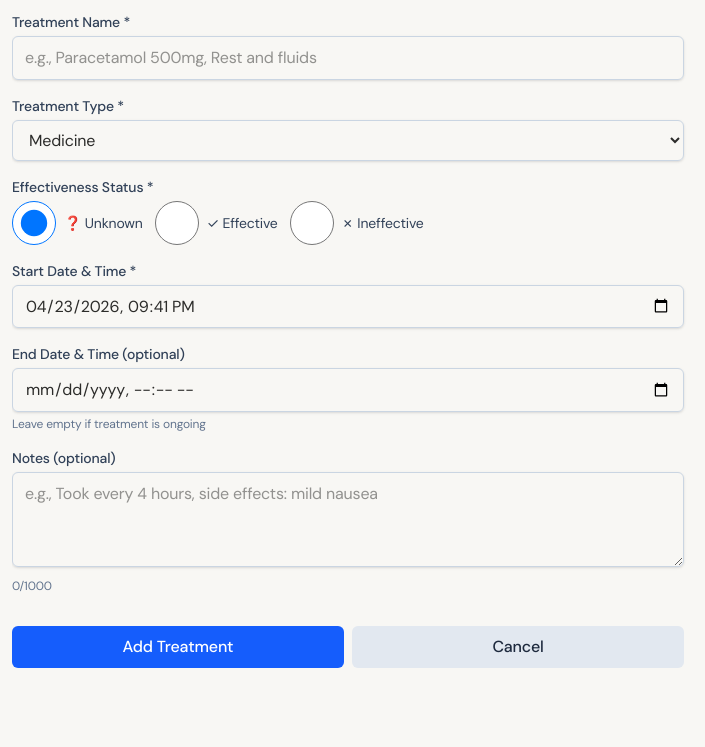
Test: TreatmentForm Component › Form Submission › should validate end date is after start date
Type "Test" into the field labelled "Treatment Name *" at (348, 58), box [12,36,684,80]
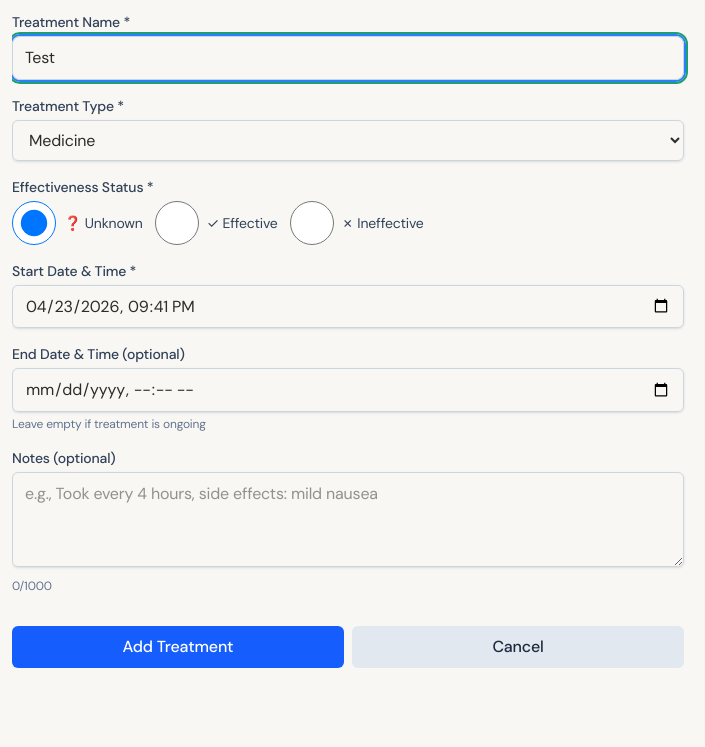
Replace the text in the field labelled "Start Date & Time *" with "2026-02-22T18:00" at (348, 306), box [12,285,684,328]
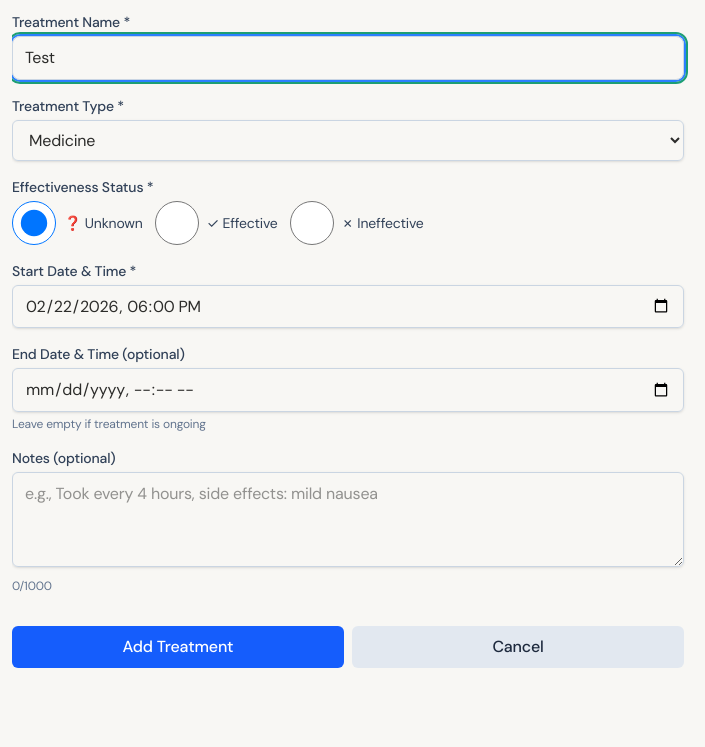
Type "2026-02-20T10:00" into the field labelled "End Date & Time (optional)" at (348, 390), box [12,368,684,412]
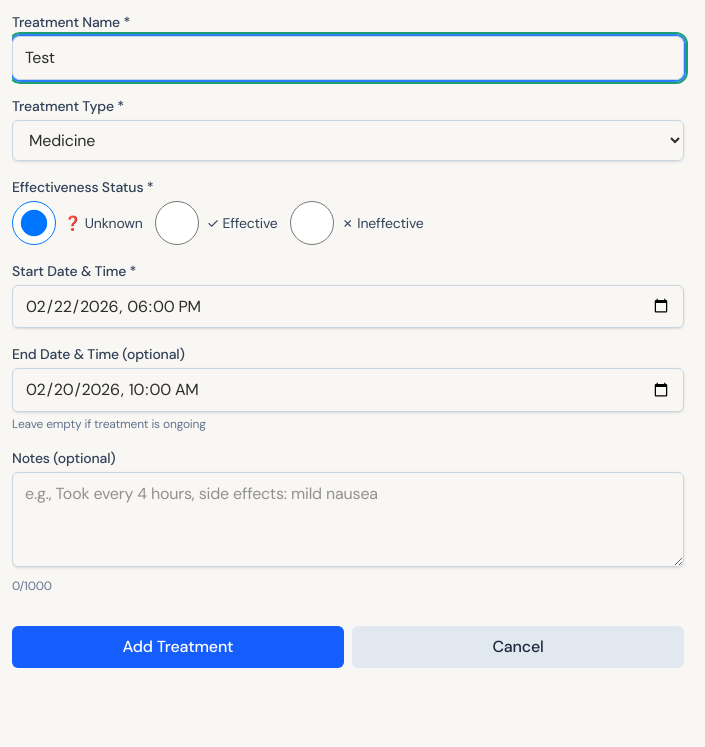
Click the button "Add Treatment" at (178, 647), box [12,626,344,668]
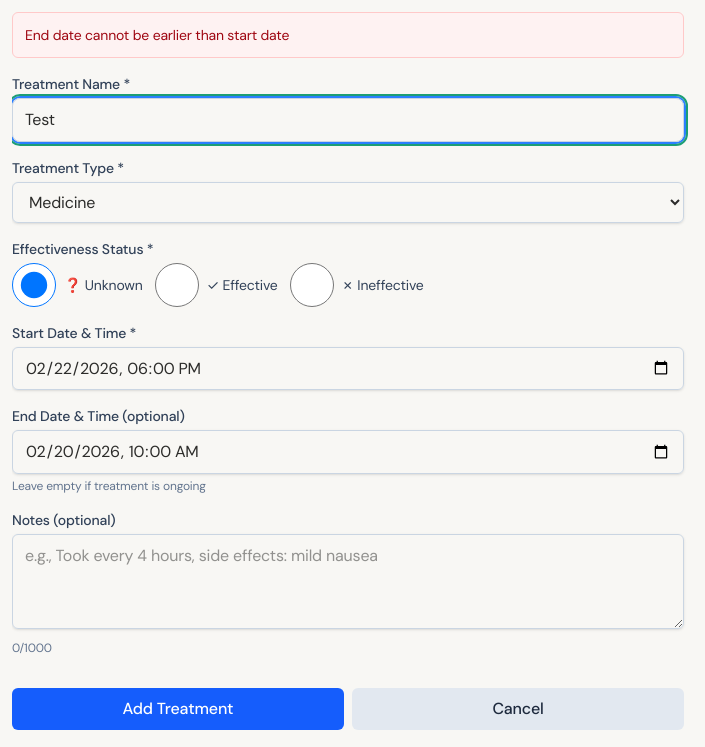
Check: the text "End date cannot be earlier than start date" is shown, box [25,26,289,44]
